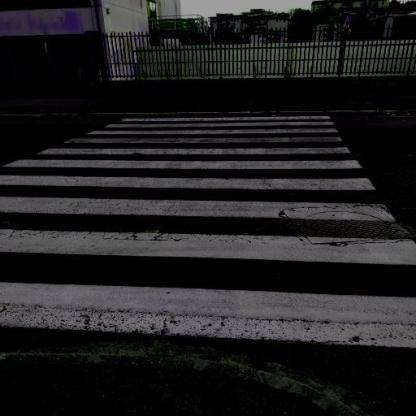crosswalk: (0, 193, 416, 272), (29, 134, 359, 157), (99, 115, 343, 128)
